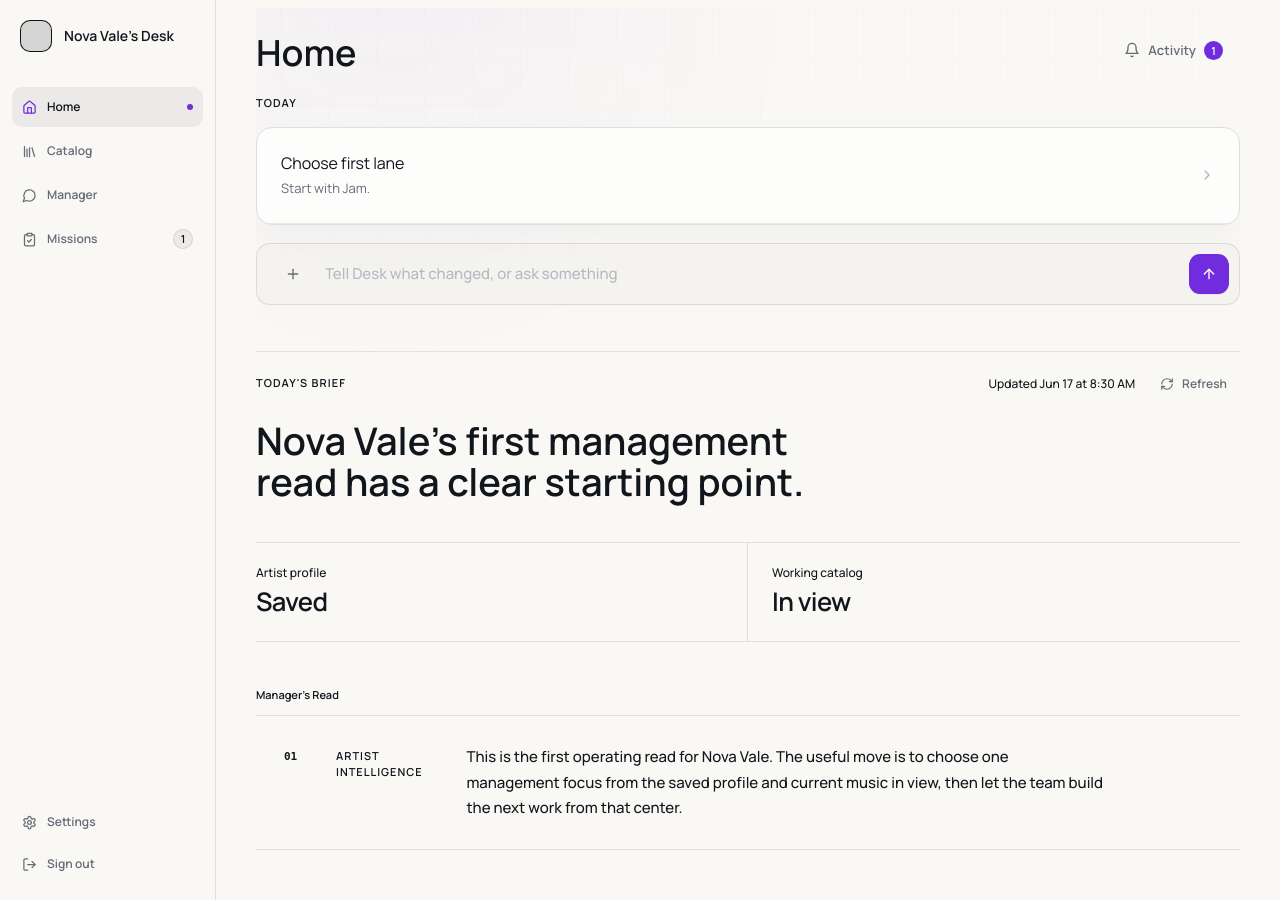
Scenario: Clean production prototype-match shell › turns Desk HQ command brief clicks into Manager and mission destinations without exposing the old command strip
Check: the heading "Home" is shown, box [256,34,356,72]
Check: the number of forms named "Update or ask Desk" is 1, box [256,243,1240,305]
In the text box with placeholder "Tell Desk what changed, or ask something": (751, 274) [325,255,1177,294], type "Turn this into a manager conversation"
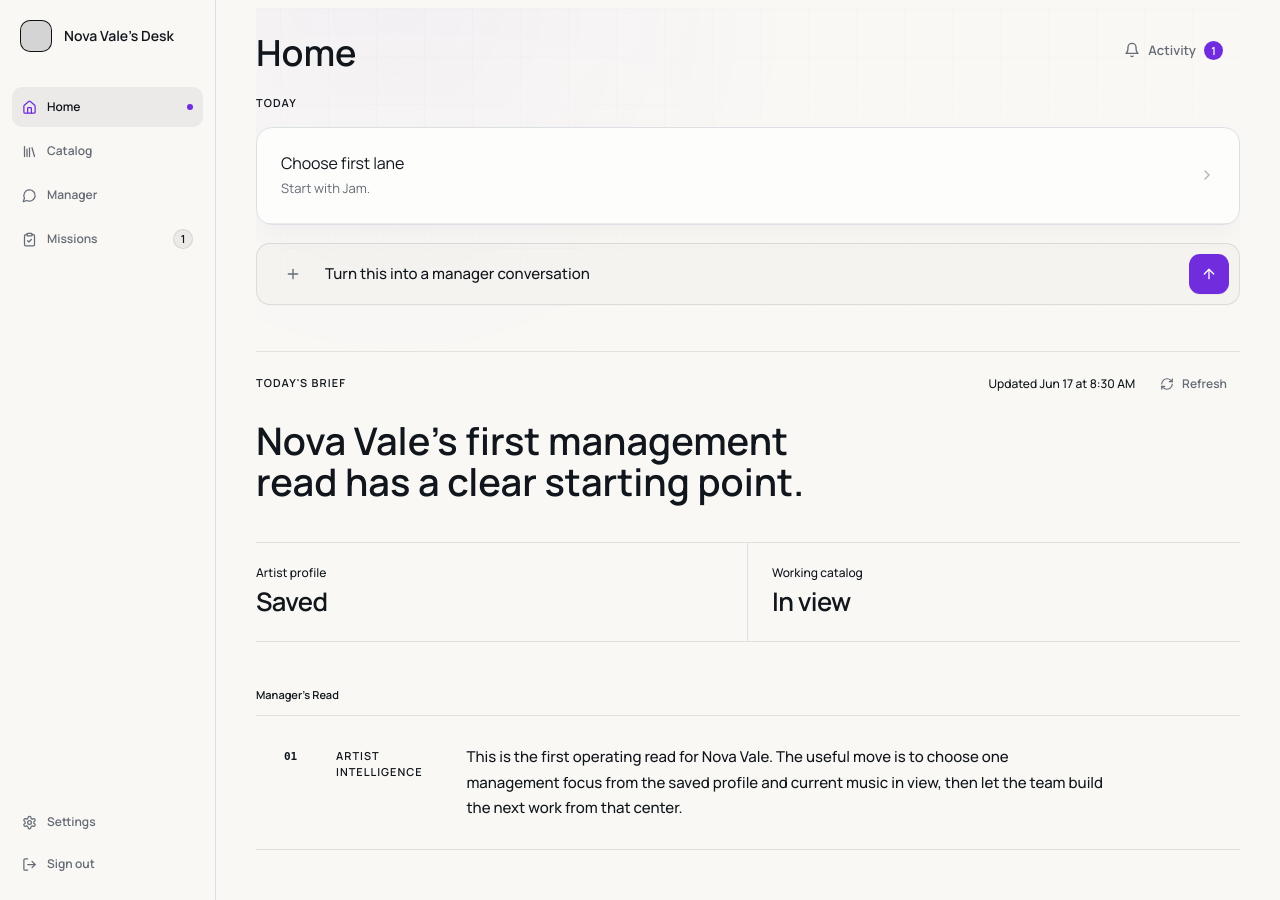
Click the button named "Send to Manager": (1209, 274) [1189,254,1229,294]
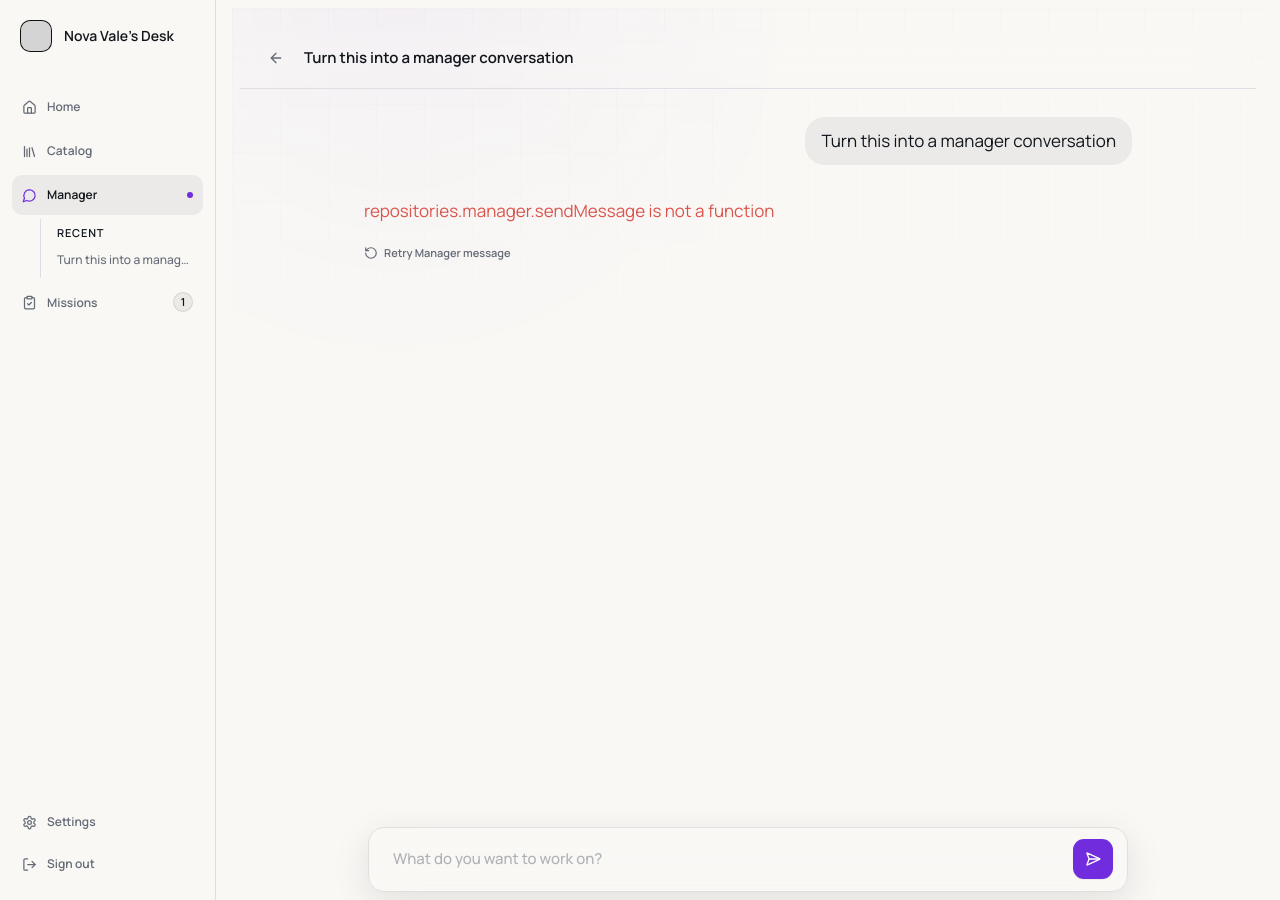
Check: the heading "Turn this into a manager conversation" is shown, box [304,47,574,69]
